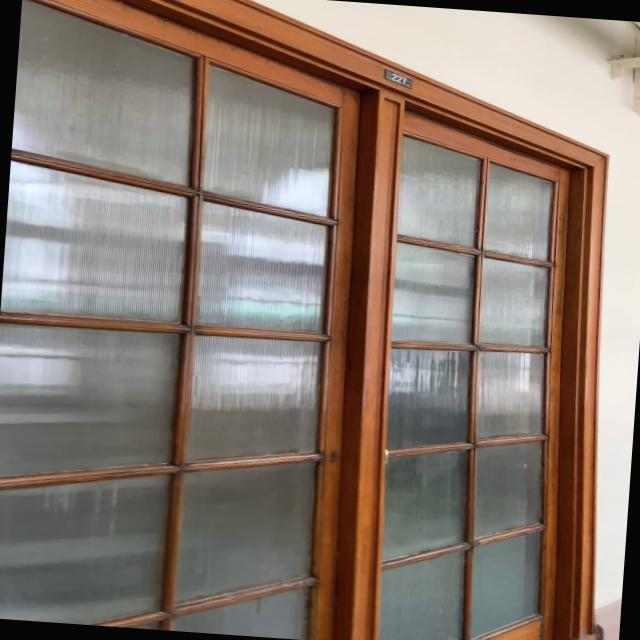room227: (382, 67, 414, 90)
